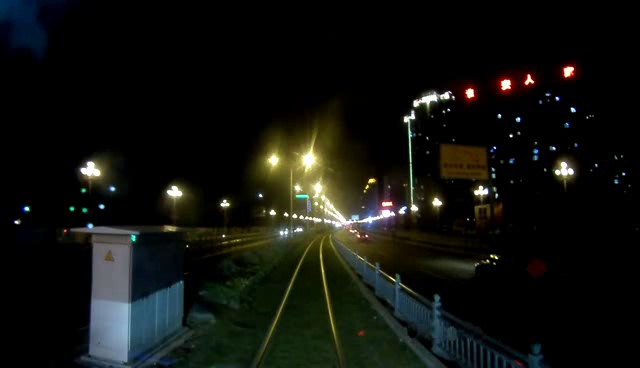car: (458, 252, 547, 282), (356, 231, 371, 244)
